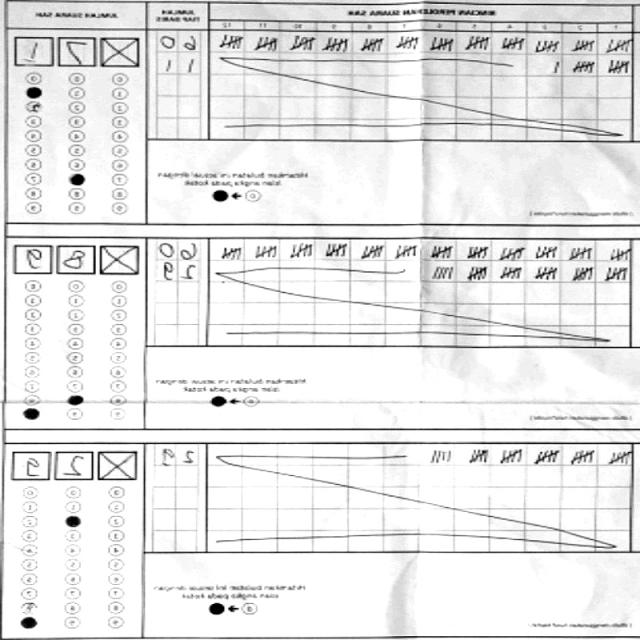Suara: (7, 445, 142, 485), (9, 32, 143, 72), (10, 237, 144, 277)
